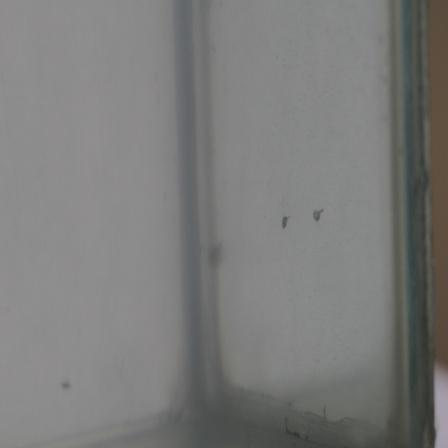Jentik-Nyamuk: (277, 212, 295, 233)
